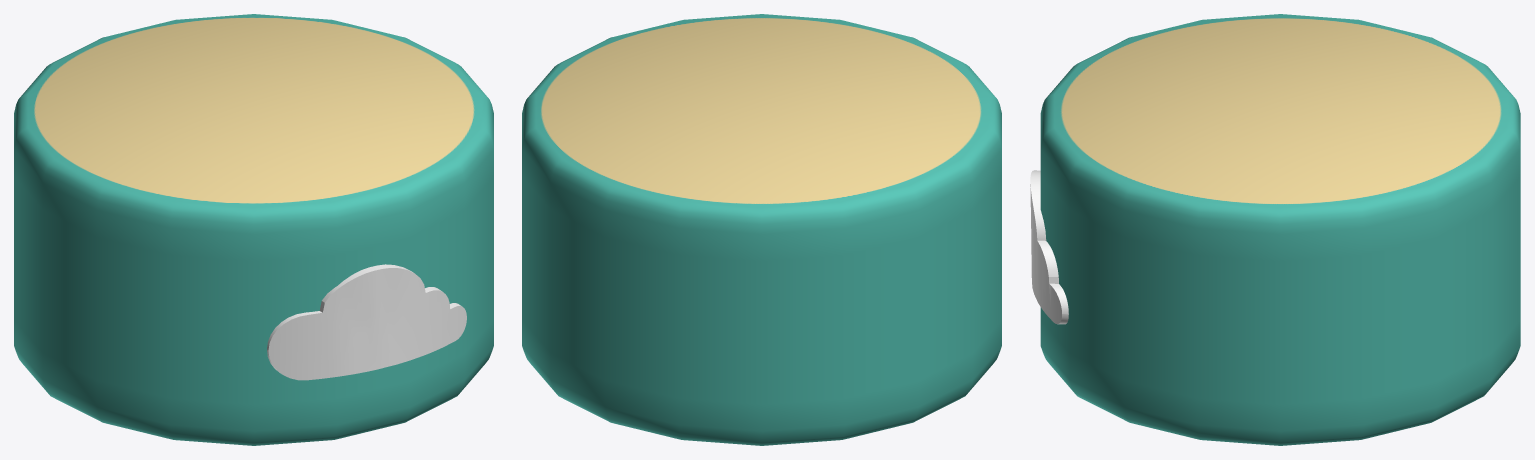
The picture shows the model from 3 angles, left to right: view 1: azimuth 30°, elevation 25°; view 2: azimuth 150°, elevation 25°; view 3: azimuth 270°, elevation 25°; orthographic projection.
Parts seen in each view (by area): view 1: WoodBlock4; view 2: WoodBlock4; view 3: WoodBlock4.
Part boxes in pixels (x1,y1,x2,y2): WoodBlock4: [14, 14, 493, 445]; WoodBlock4: [522, 14, 1001, 445]; WoodBlock4: [1030, 14, 1520, 445].
Size of the model in its own units: 809 by 436 by 814.
Materials: 1 (1 with a texture image).
